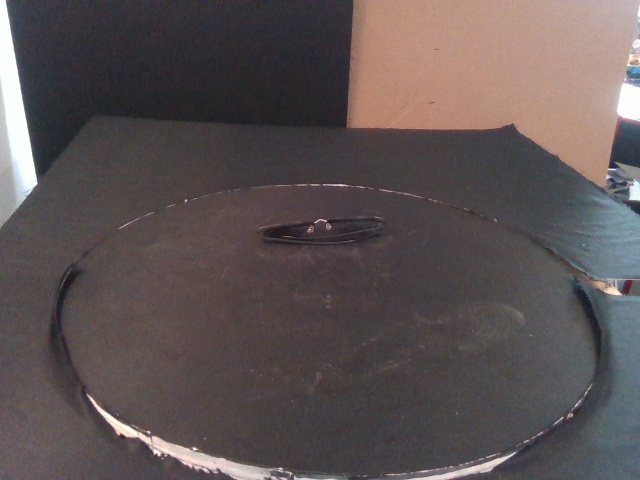glasses: (256, 214, 388, 244)
